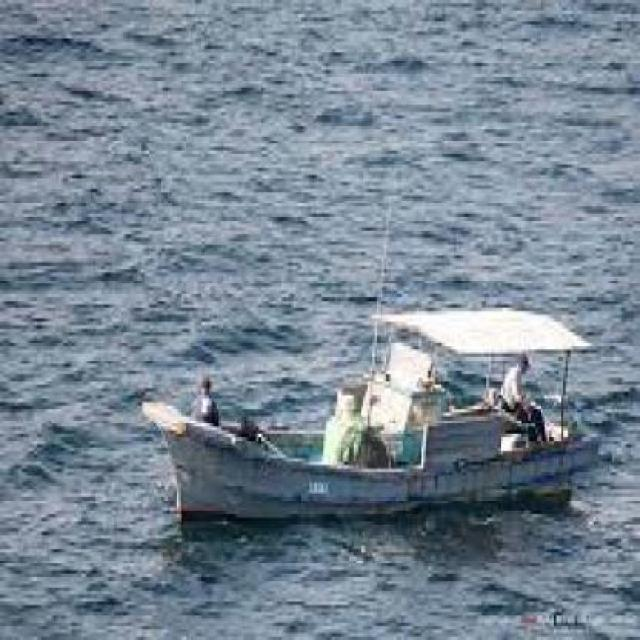fish-b: (141, 281, 607, 530)
